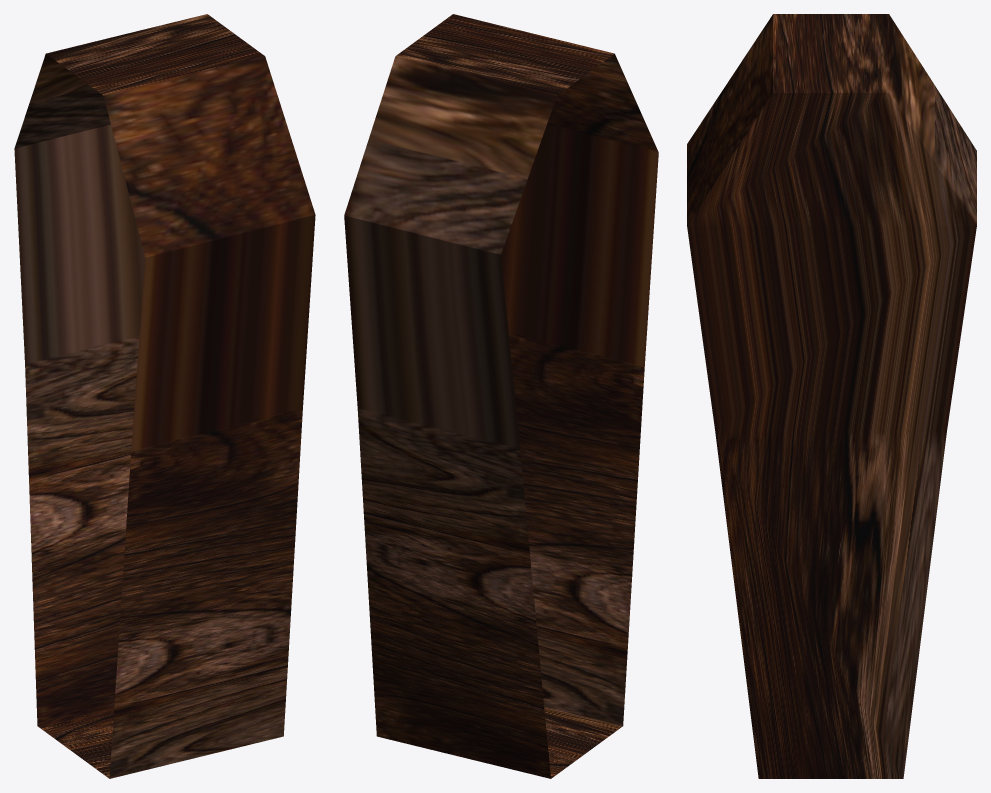
Rendered from Open_Coffin .glb.
3 views of the same model, side by side, from view 1: azimuth 30°, elevation 25°; view 2: azimuth 150°, elevation 25°; view 3: azimuth 270°, elevation 25° (orthographic).
Parts seen in each view (by area): view 1: Coffin_Open; view 2: Coffin_Open; view 3: Coffin_Open.
Part boxes in pixels (left/top/right/bottom): Coffin_Open: left=14, top=14, right=315, bottom=778; Coffin_Open: left=344, top=14, right=658, bottom=778; Coffin_Open: left=687, top=14, right=976, bottom=778.
Bounding box in the file's own units: 1.39 × 5.18 × 2.
1 material, 1 textured.
